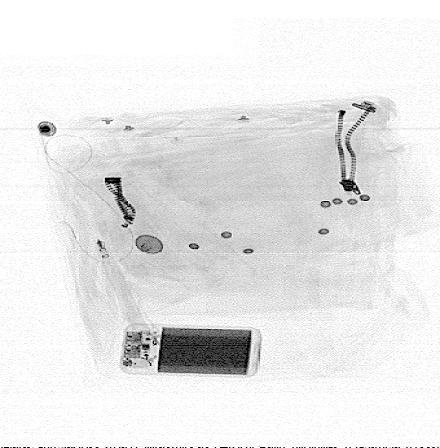Powerbank: (118, 322, 263, 378)
